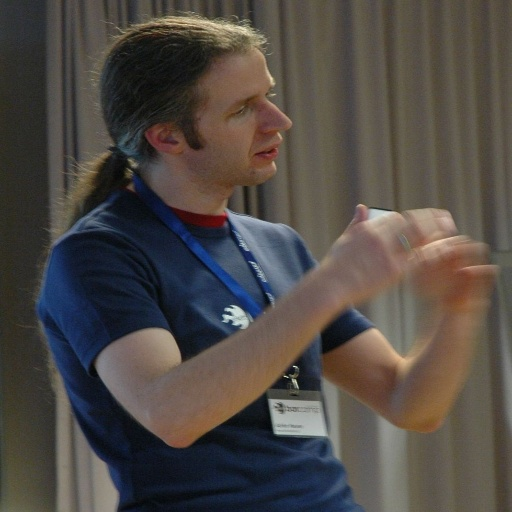hand: (326, 202, 455, 298), (403, 212, 500, 314)
